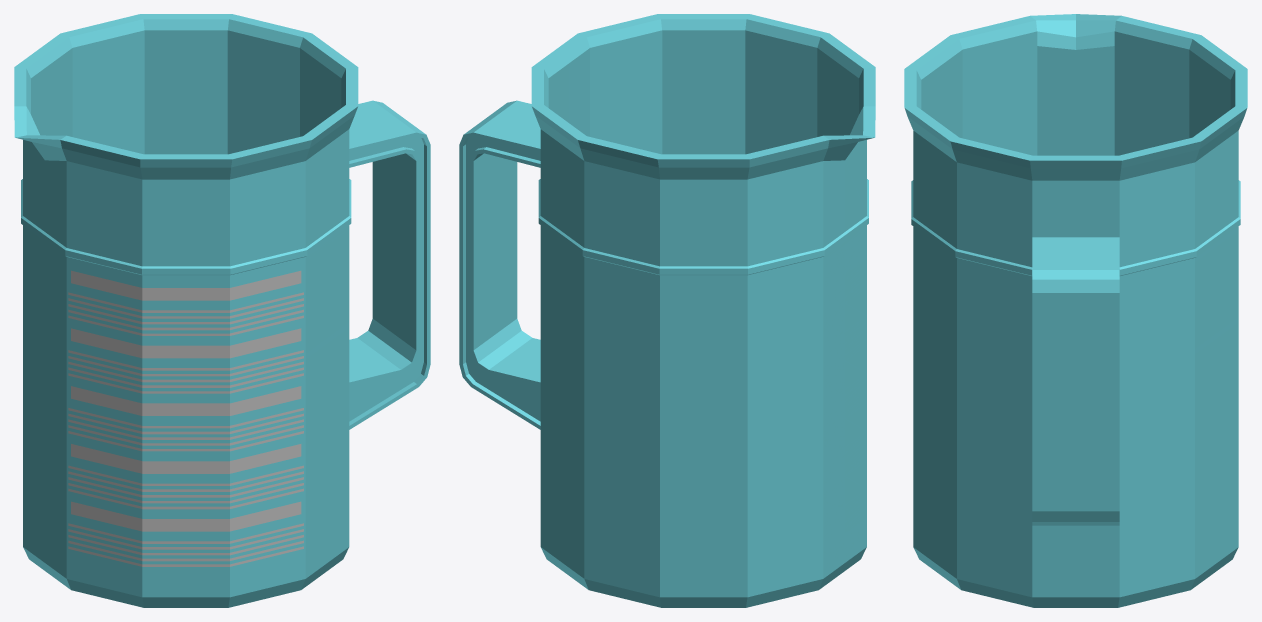
Rendered from SM_Beaker_01_B.gltf.
3 renders of one model, left to right at view 1: azimuth 30°, elevation 25°; view 2: azimuth 150°, elevation 25°; view 3: azimuth 270°, elevation 25°, orthographic.
Visible parts, largest first — view 1: SM_Beaker_01_B; view 2: SM_Beaker_01_B; view 3: SM_Beaker_01_B.
Boxes of the visible parts, x1,y1,x2,y2 form: SM_Beaker_01_B: (14, 14, 430, 607); SM_Beaker_01_B: (459, 14, 875, 607); SM_Beaker_01_B: (904, 14, 1247, 607).
Size of the model in its own units: 0.1593 by 0.1778 by 0.1204.
